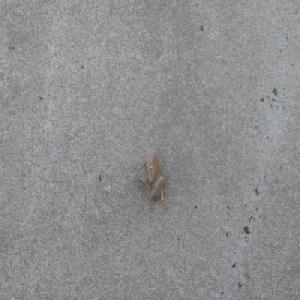Rock: (134, 149, 165, 203)
